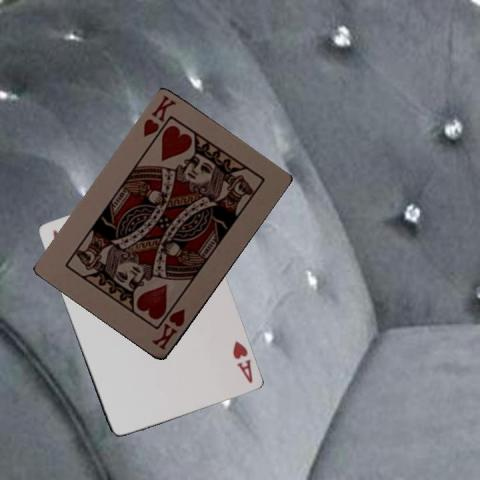Ah: (229, 337, 254, 384)
Kh: (148, 305, 186, 352), (140, 93, 178, 139)
